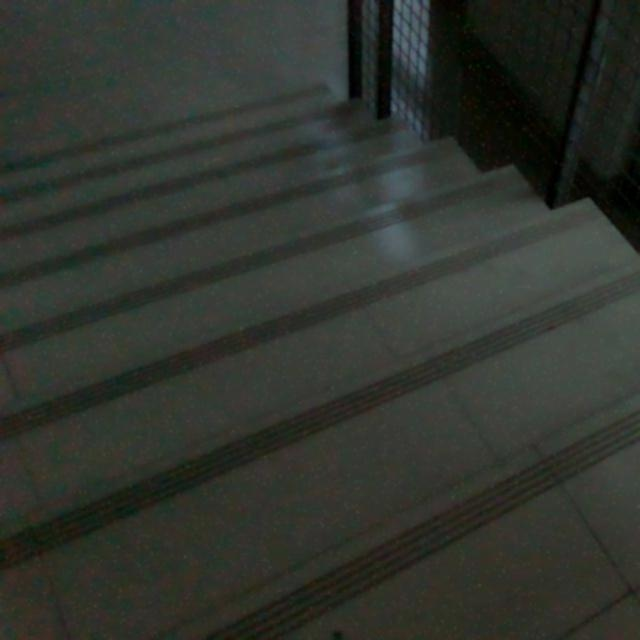stair: (0, 88, 638, 592)
